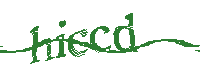c: (68, 29, 88, 57), (90, 26, 111, 52)
d: (114, 13, 137, 51)
h: (30, 26, 54, 64)
i: (56, 19, 67, 59)
